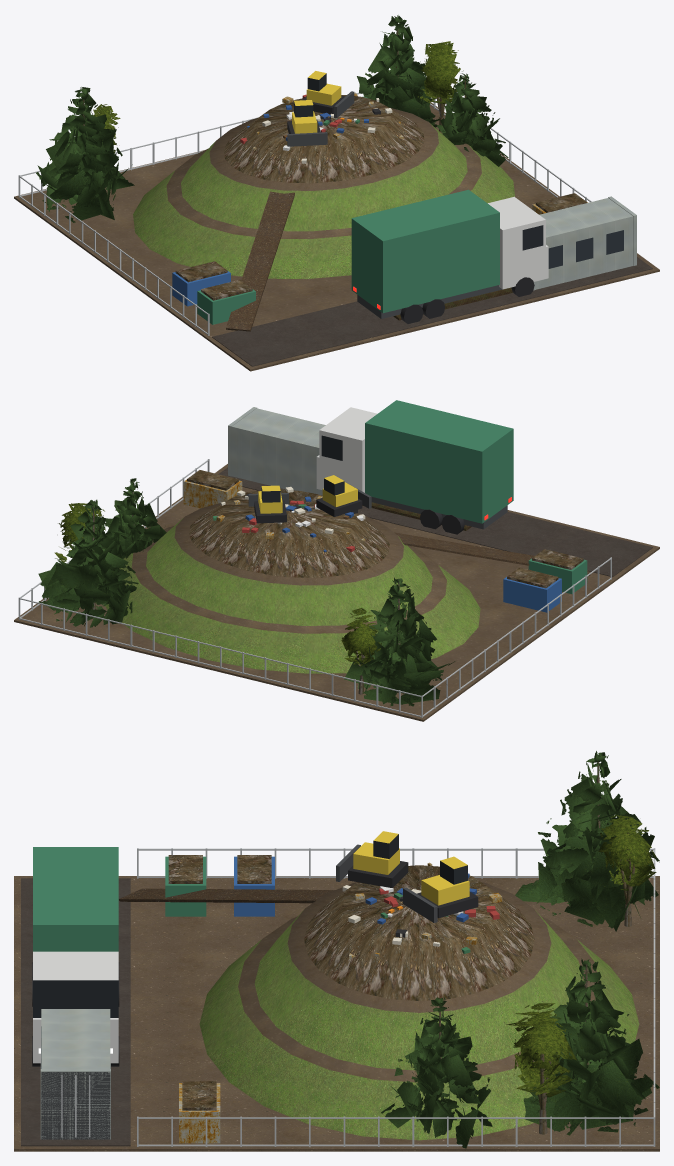
Rendered from landfill.glb.
3 views of the same model, one above another, from view 1: azimuth 30°, elevation 25°; view 2: azimuth 150°, elevation 25°; view 3: azimuth 270°, elevation 25° (orthographic). The views are drawn at different scales.
Visible parts, largest first — view 1: landfill_body, landfill_foliage; view 2: landfill_body, landfill_foliage; view 3: landfill_body, landfill_foliage.
Part boxes in pixels (x1,y1,x2,y2): landfill_body: (14,29,659,371); landfill_foliage: (36,15,508,222); landfill_body: (14,400,659,721); landfill_foliage: (38,478,455,706); landfill_body: (14,762,659,1151); landfill_foliage: (381,751,659,1148).
Size of the model in its own units: 0.94 by 0.269 by 0.94.
Materials: 31 (12 with a texture image).
